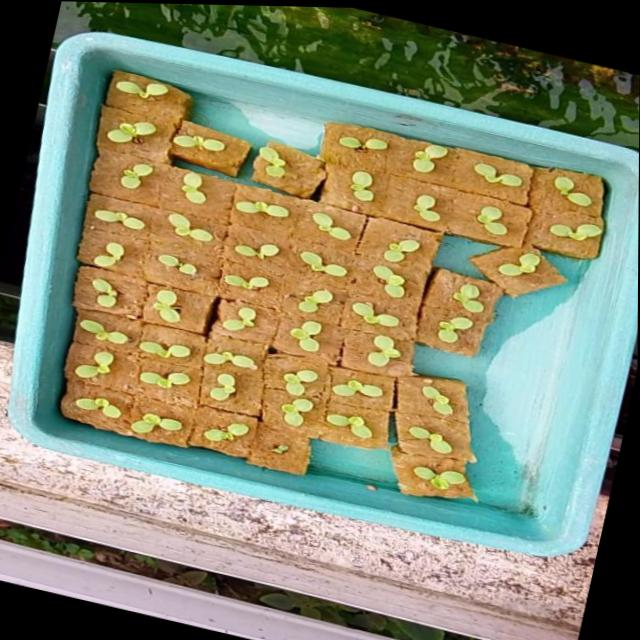Baby: (527, 167, 588, 204), (469, 242, 528, 279), (86, 152, 152, 183), (125, 246, 186, 275), (457, 157, 515, 187), (309, 368, 362, 400), (46, 310, 105, 338), (354, 259, 404, 292), (333, 291, 383, 322), (49, 271, 92, 306), (195, 294, 240, 327), (513, 202, 568, 229), (146, 205, 192, 234), (436, 272, 473, 308), (392, 460, 446, 484), (388, 419, 432, 447), (281, 244, 327, 270), (345, 328, 380, 360), (103, 408, 155, 429), (125, 282, 156, 317), (178, 345, 234, 364), (47, 392, 95, 414), (46, 345, 85, 372), (395, 137, 431, 166), (304, 412, 349, 435), (267, 313, 299, 345), (71, 201, 122, 221), (211, 233, 261, 253), (365, 229, 402, 256), (260, 363, 295, 390), (113, 334, 165, 352), (401, 379, 432, 409), (457, 199, 488, 229), (258, 390, 290, 419), (177, 417, 223, 436), (277, 283, 313, 307), (68, 235, 101, 260), (159, 164, 185, 195), (419, 315, 453, 338), (331, 163, 356, 194), (184, 368, 211, 396), (396, 187, 422, 215), (203, 267, 248, 283), (296, 206, 324, 231), (114, 366, 153, 383)
